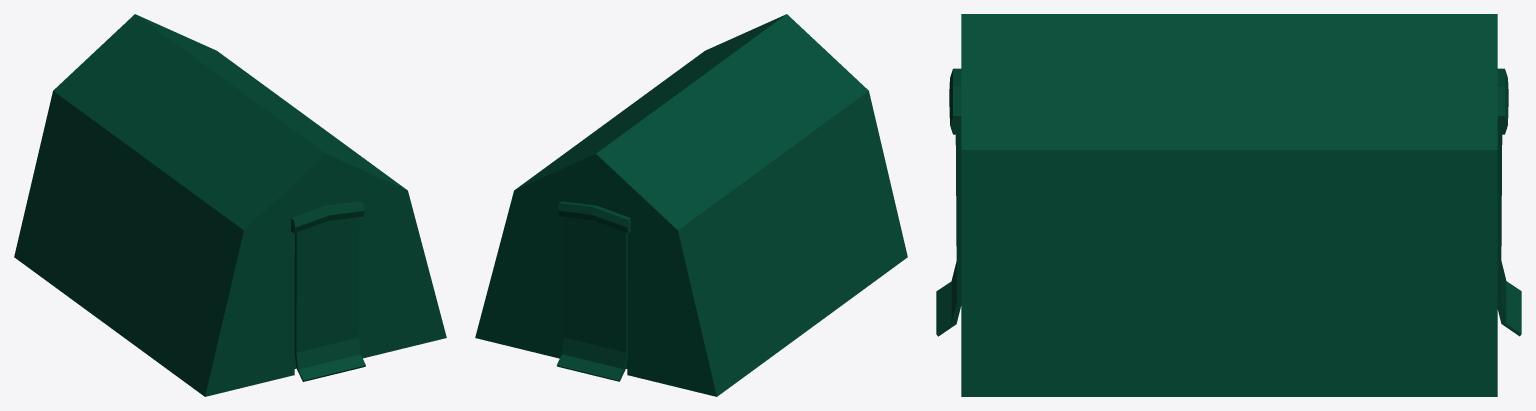
File: Tent 1.fbx
The picture shows the model from 3 angles, left to right: view 1: azimuth 30°, elevation 25°; view 2: azimuth 150°, elevation 25°; view 3: azimuth 270°, elevation 25°; orthographic projection. The views are drawn at different scales.
Parts seen in each view (by area): view 1: Tent_1; view 2: Tent_1; view 3: Tent_1.
Part boxes in pixels (<box>): Tent_1: <box>14,14,446,396</box>; Tent_1: <box>475,14,907,396</box>; Tent_1: <box>936,14,1521,396</box>.
Size of the model in its own units: 371 by 315 by 554.
